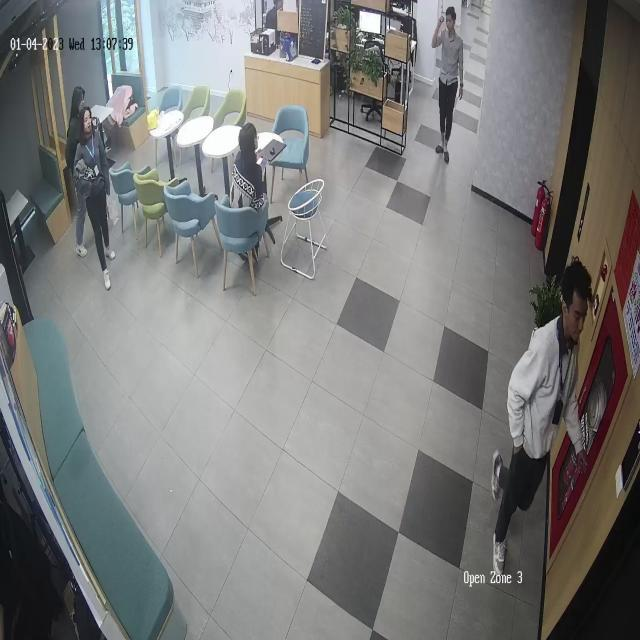person: (490, 259, 592, 577), (73, 104, 114, 288), (230, 121, 275, 258), (431, 6, 464, 164)
